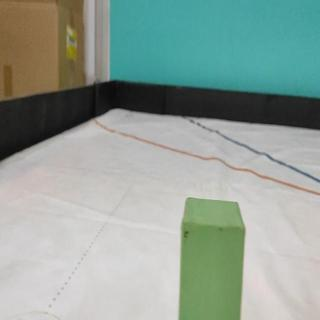greenbox: (177, 195, 247, 320)
